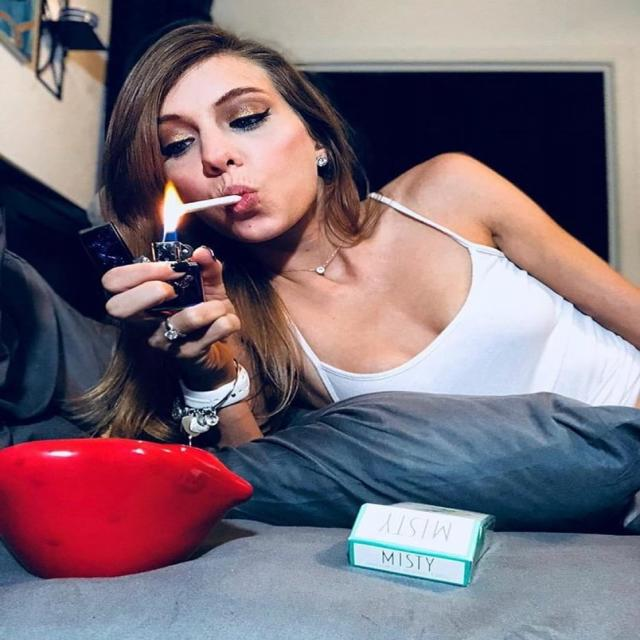smoke: (160, 191, 244, 232)
